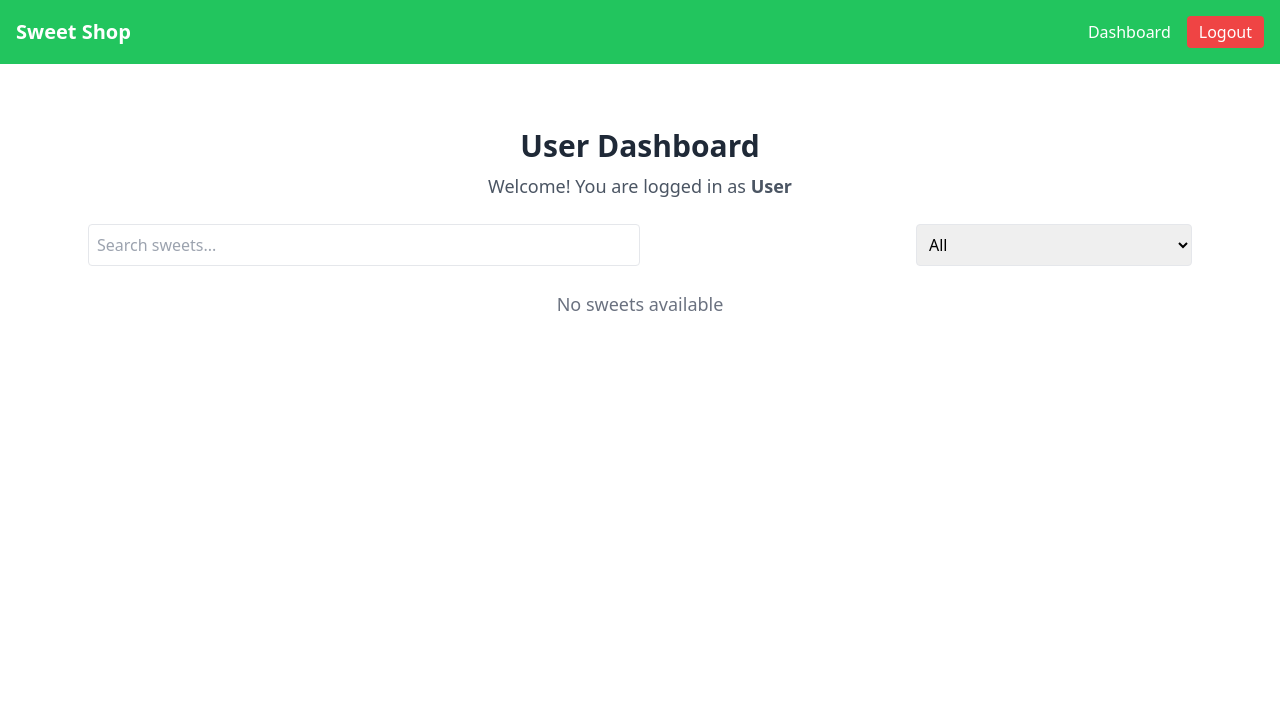
Test: UserDashboard - Search and Filter › filters sweets by category
The width and height of the screenshot is (1280, 720).
Select "Chocolate" in the dropdown with test id "category-filter" at (1054, 245), box [916,224,1192,266]
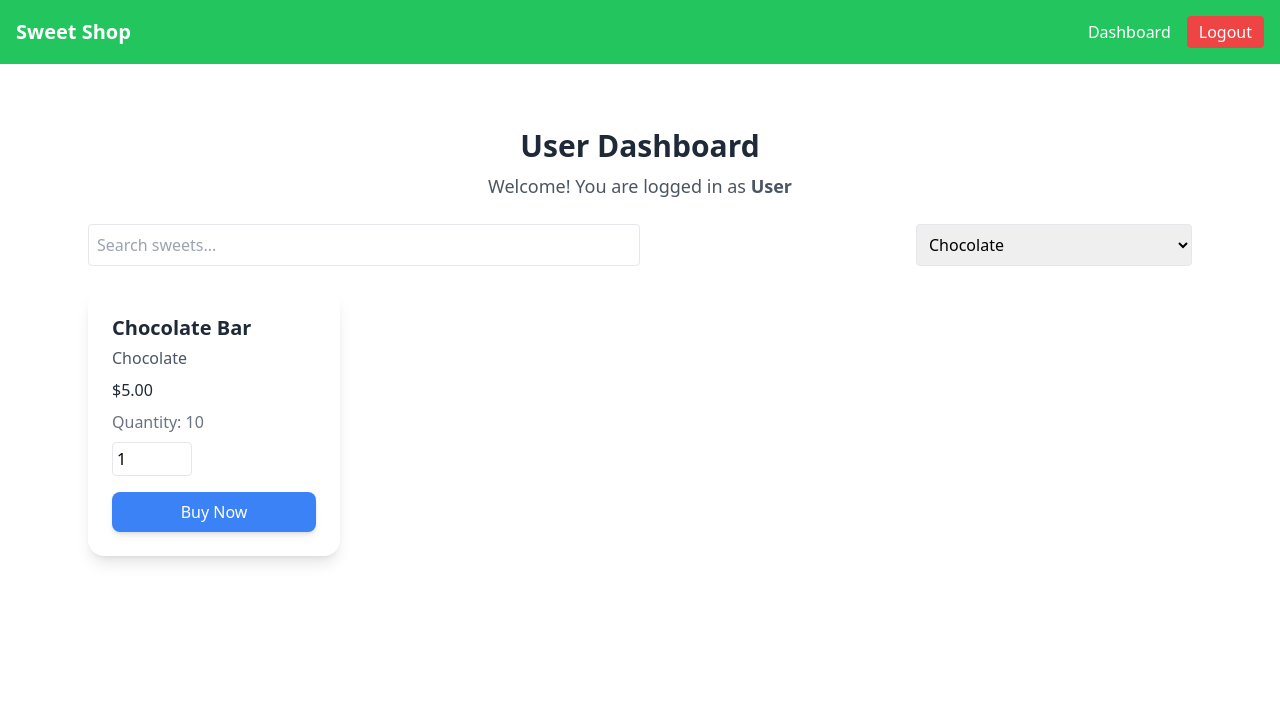
Check: the heading "Chocolate Bar" is shown, box [112,314,251,341]
